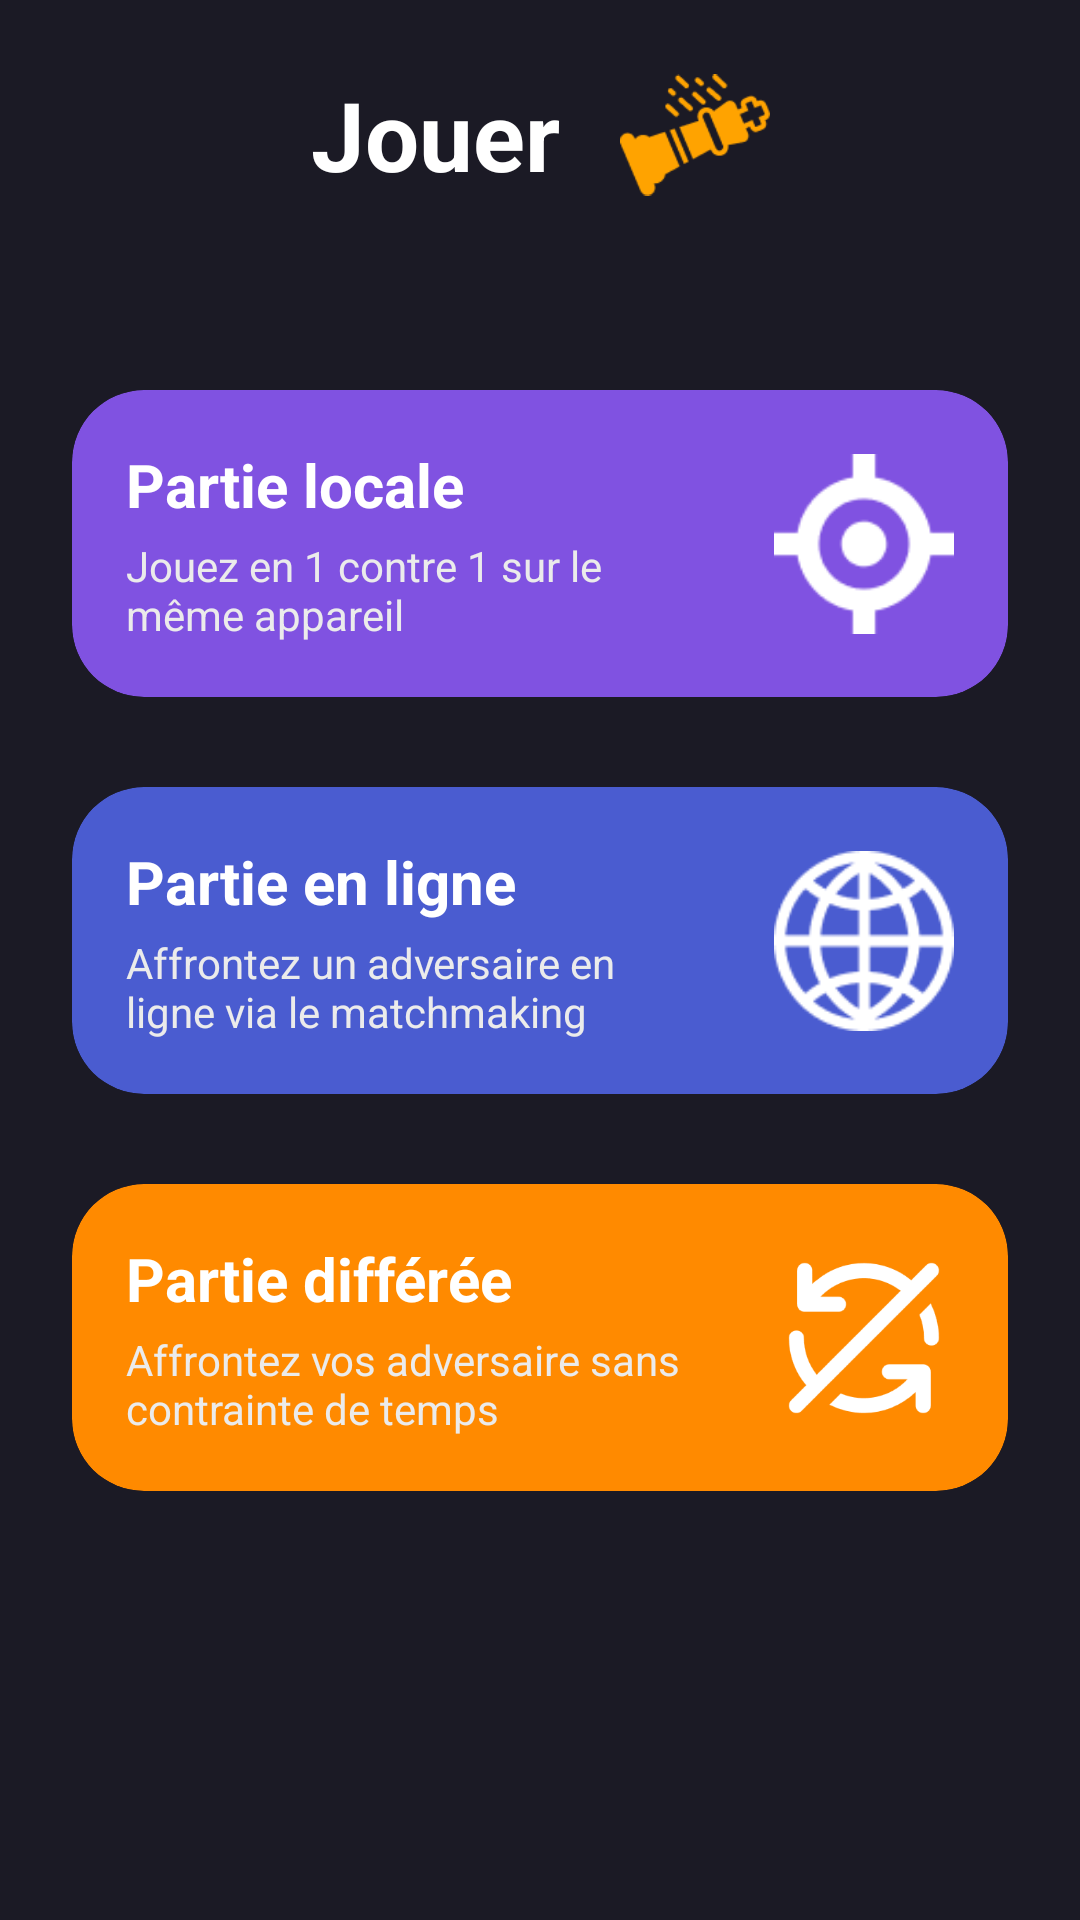

Point at icon controls on the screen. Image size 1080px x 1920px, points as (x,y).
Icône cible: (864,544)
Icône globe: (864,941)
